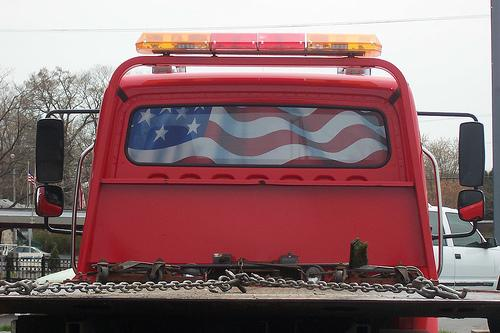truck: (0, 30, 500, 333)
